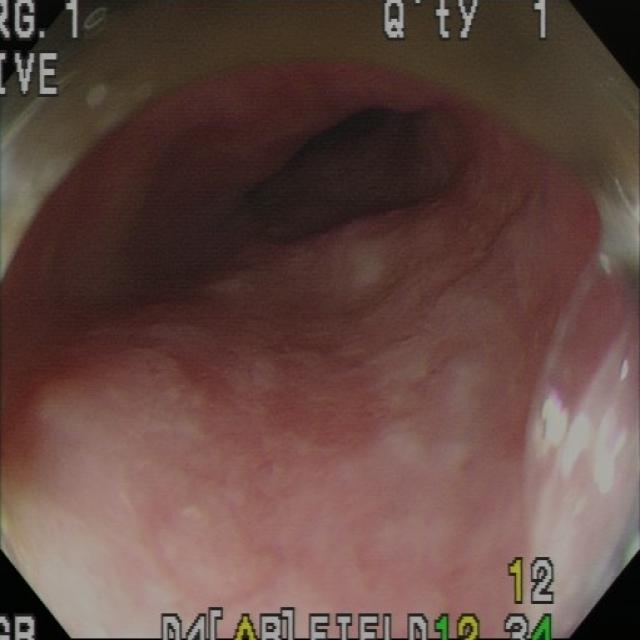E: (223, 93, 468, 247)
J: (19, 334, 212, 574), (343, 224, 516, 482), (222, 431, 468, 607)
S: (160, 608, 483, 640), (383, 3, 558, 45), (3, 3, 83, 45), (3, 50, 63, 101), (507, 558, 556, 608), (506, 614, 556, 640), (2, 614, 39, 640)
T: (530, 194, 640, 558)
U: (534, 391, 624, 496)
